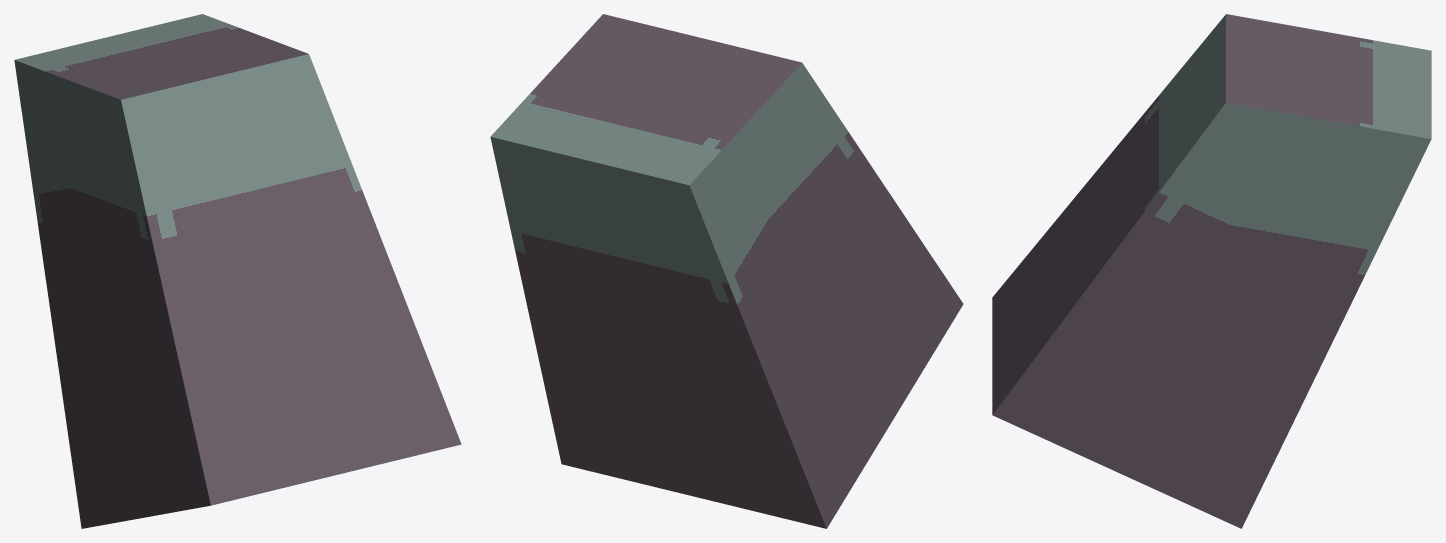
The model's file is god_neck.glb.
The picture shows the model from 3 angles, left to right: view 1: azimuth 30°, elevation 25°; view 2: azimuth 150°, elevation 25°; view 3: azimuth 270°, elevation 25°; orthographic projection. The views are drawn at different scales.
Parts seen in each view (by area): view 1: Cube.196; view 2: Cube.196; view 3: Cube.196.
Part boxes in pixels (x1,y1,x2,y2): Cube.196: (14,14,461,528); Cube.196: (490,14,963,528); Cube.196: (992,14,1431,528).
Size of the model in its own units: 0.8754 by 1.43 by 1.38.
1 material, 1 textured.
